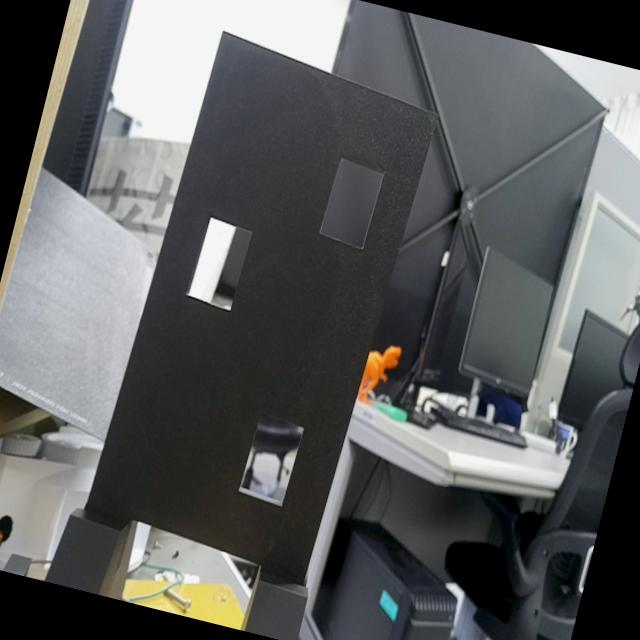Obstacle: (240, 409, 306, 504), (187, 217, 252, 308), (319, 158, 383, 246)
Wall: (84, 33, 436, 584)
